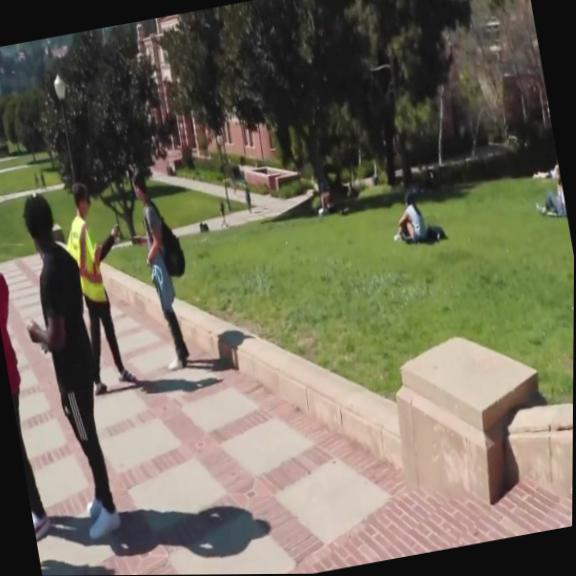safety_vest: (60, 210, 110, 307)
